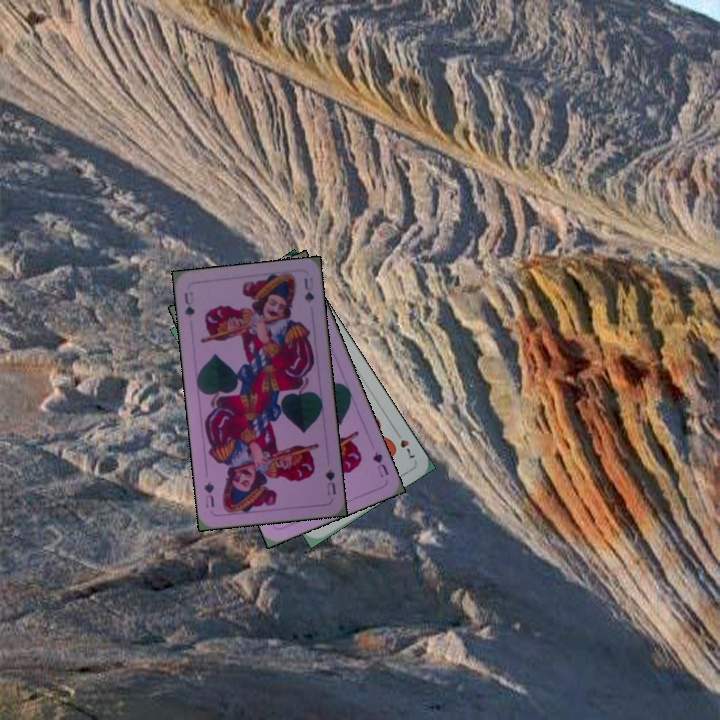GU: (368, 447, 391, 480), (321, 465, 338, 497), (180, 288, 197, 320)
H7: (391, 426, 419, 462)
